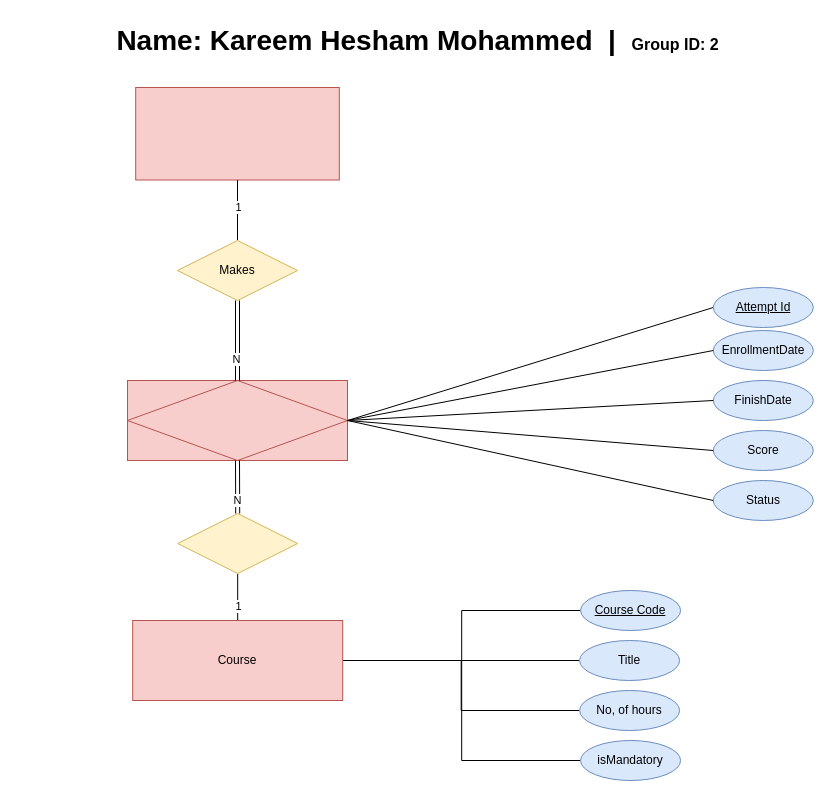
Image size: 834x798. Some labels were removed from this diagram. Each missing label, with the box of its shape:
Attempt: (126, 380, 348, 460)
Employee: (135, 86, 339, 180)
Has: (177, 512, 298, 574)
